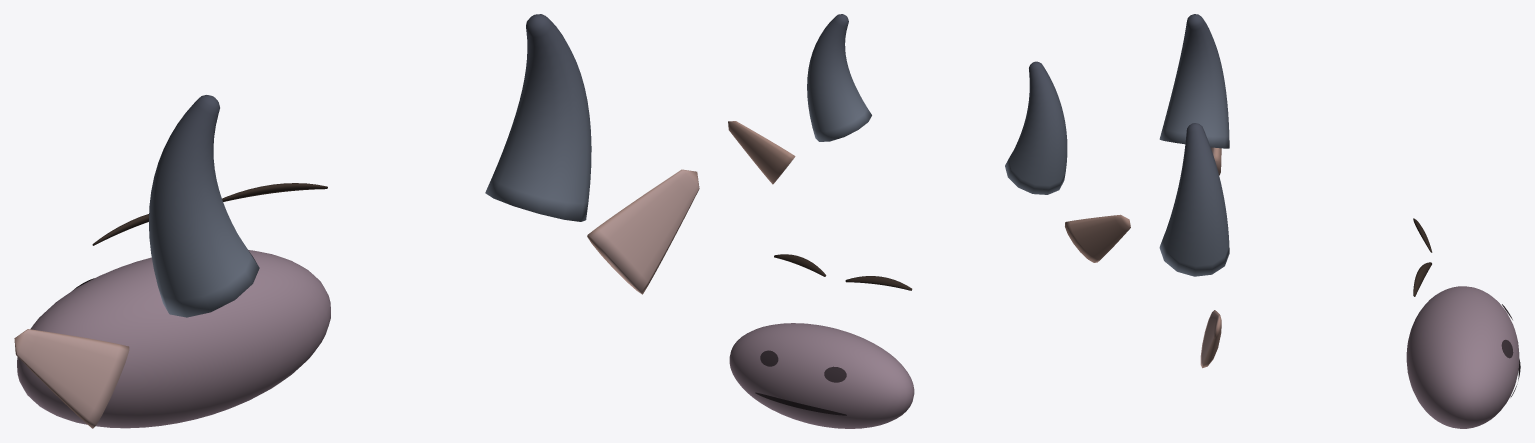
Rendered from Cosmetic_NiuLia.glb.
The picture shows the model from 3 angles, left to right: view 1: azimuth 30°, elevation 25°; view 2: azimuth 150°, elevation 25°; view 3: azimuth 270°, elevation 25°; orthographic projection. The views are drawn at different scales.
Parts seen in each view (by area): view 1: VAR_V2; view 2: VAR_V2; view 3: VAR_V2.
Boxes of the visible parts, box(x1,y1,x2,y2) form: VAR_V2: box(14, 14, 699, 428); VAR_V2: box(728, 14, 1130, 428); VAR_V2: box(1159, 14, 1520, 428).
Bounding box in the file's own units: 1.08 × 0.7622 × 0.7349.
